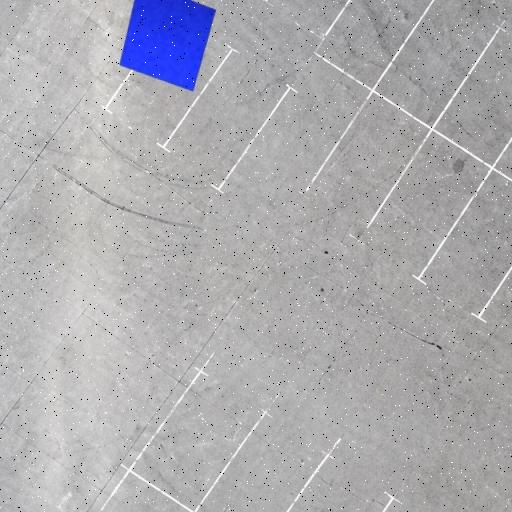BLUE_SQUARE: (118, 0, 217, 92)
